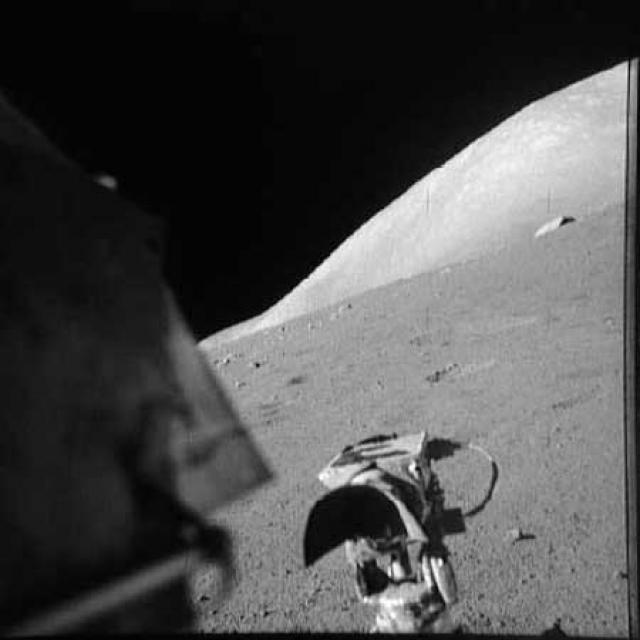artifact: (1, 97, 278, 628), (295, 419, 502, 640)
crater: (402, 305, 544, 347), (425, 353, 504, 383)
rock: (532, 211, 580, 238)
